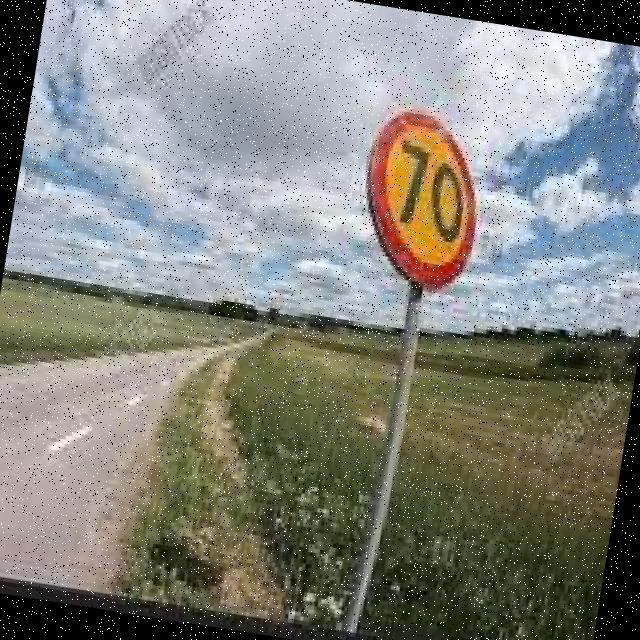speed_limit_70: (343, 96, 506, 293)
